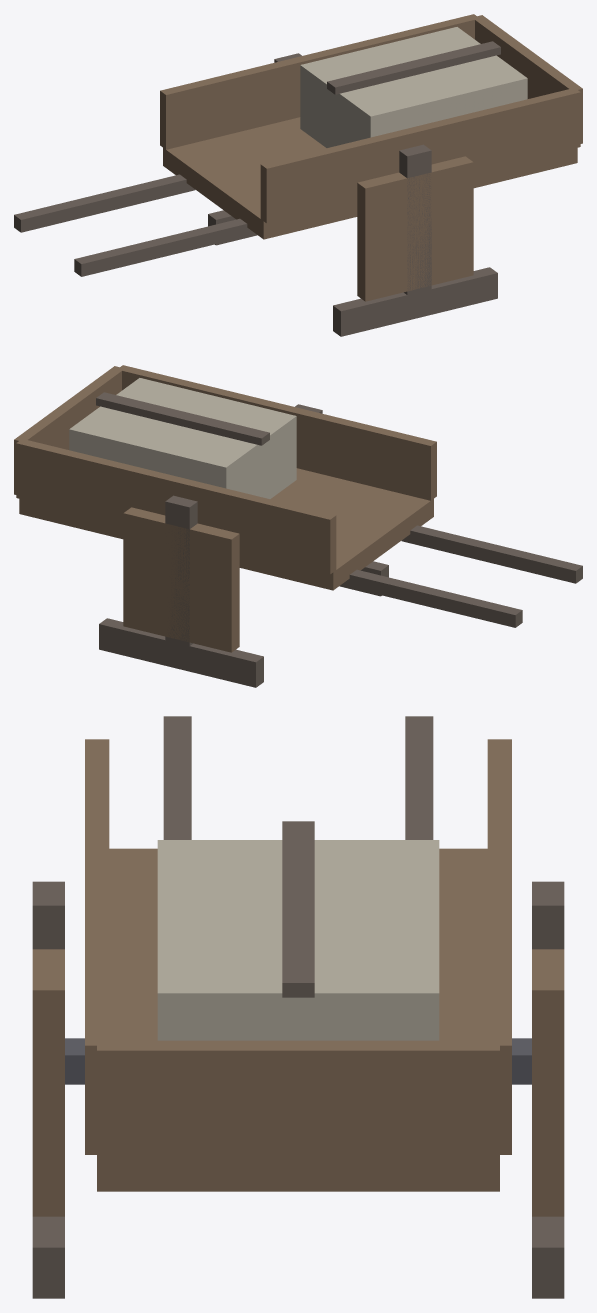
File: cart.glb
3 views of the same model, one above another, from view 1: azimuth 30°, elevation 25°; view 2: azimuth 150°, elevation 25°; view 3: azimuth 270°, elevation 25° (orthographic). The views are drawn at different scales.
Visible parts, largest first — view 1: cart; view 2: cart; view 3: cart.
Part boxes in pixels (x1,y1,x2,y2): cart: [14, 14, 582, 336]; cart: [14, 365, 582, 687]; cart: [32, 716, 564, 1298].
Size of the model in its own units: 2.78 by 1.04 by 1.32.
